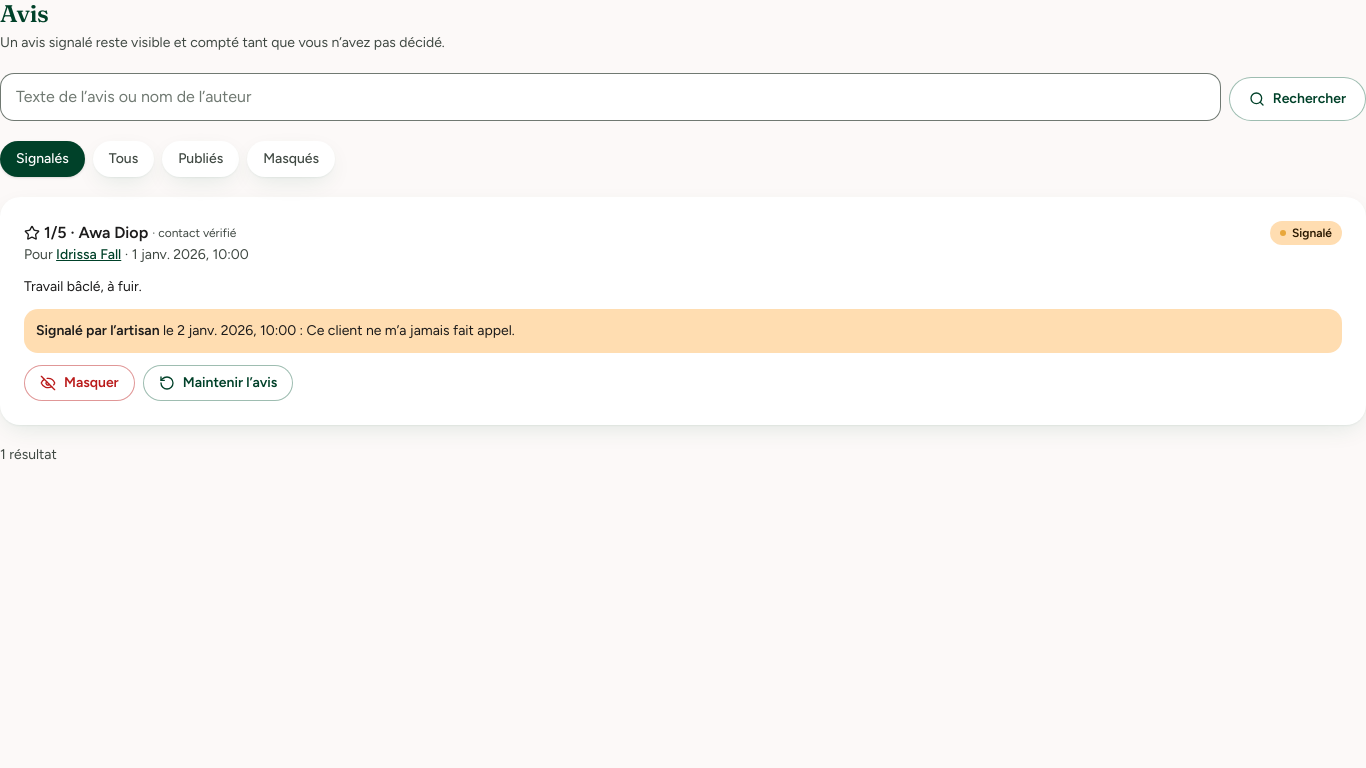
Scenario: AdminReviewsScreen › exige un motif pour masquer, puis affiche le nouveau statut
Click the button "Masquer": (79, 383) x1=24 y1=365 x2=135 y2=401
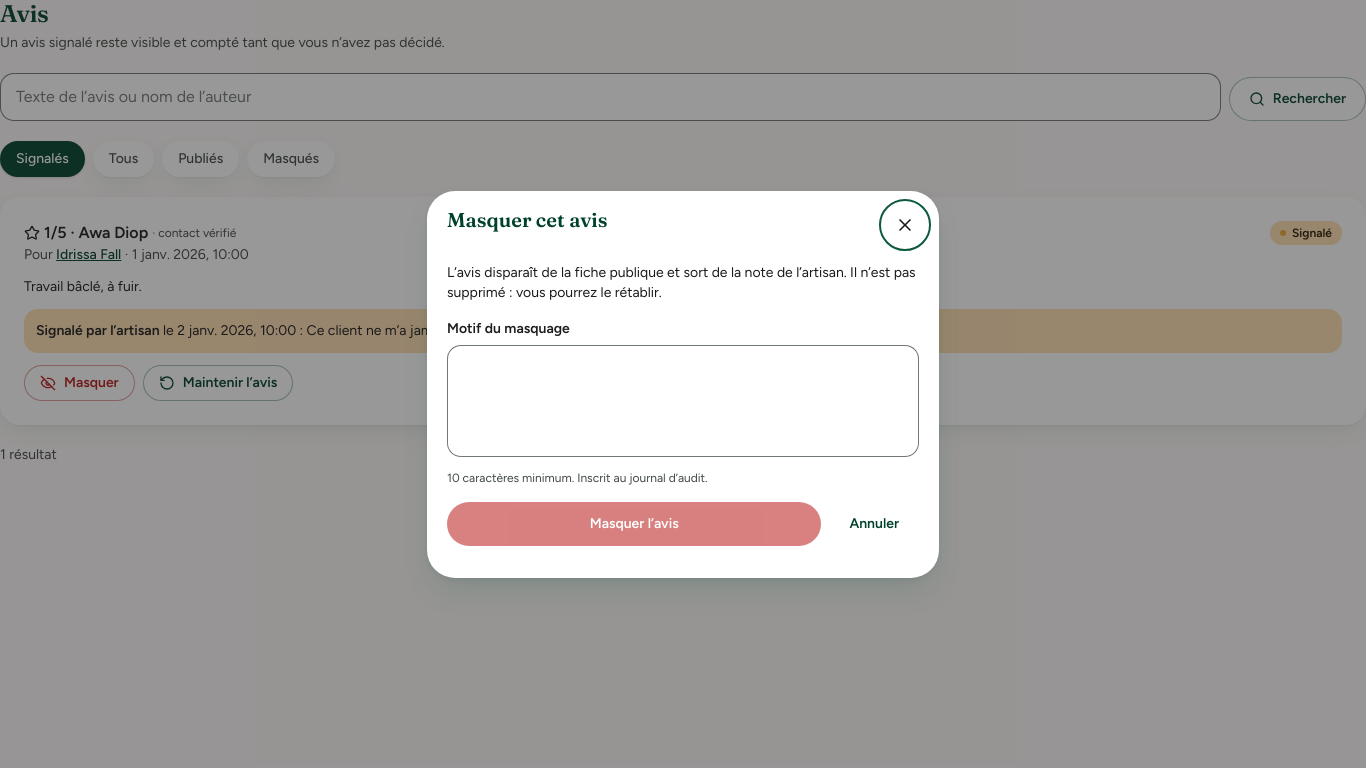
In the text box labelled "Motif du masquage": (683, 400) x1=447 y1=344 x2=919 y2=456, type "Court"
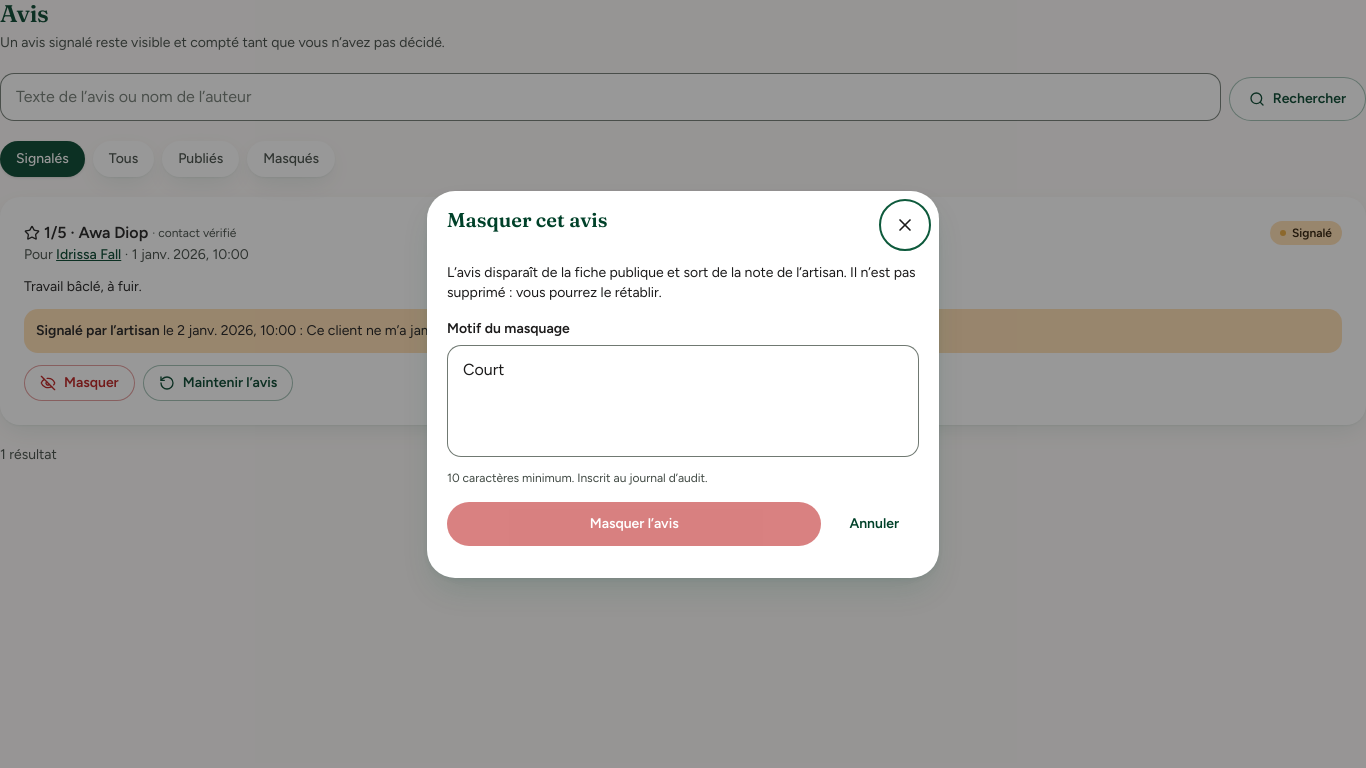
Result: the button "Masquer l’avis" is disabled at x1=447 y1=502 x2=821 y2=546
Replace the text in the text box labelled "Motif du masquage" with "Avis sans rapport avec l’intervention.": (683, 400) x1=447 y1=344 x2=919 y2=456
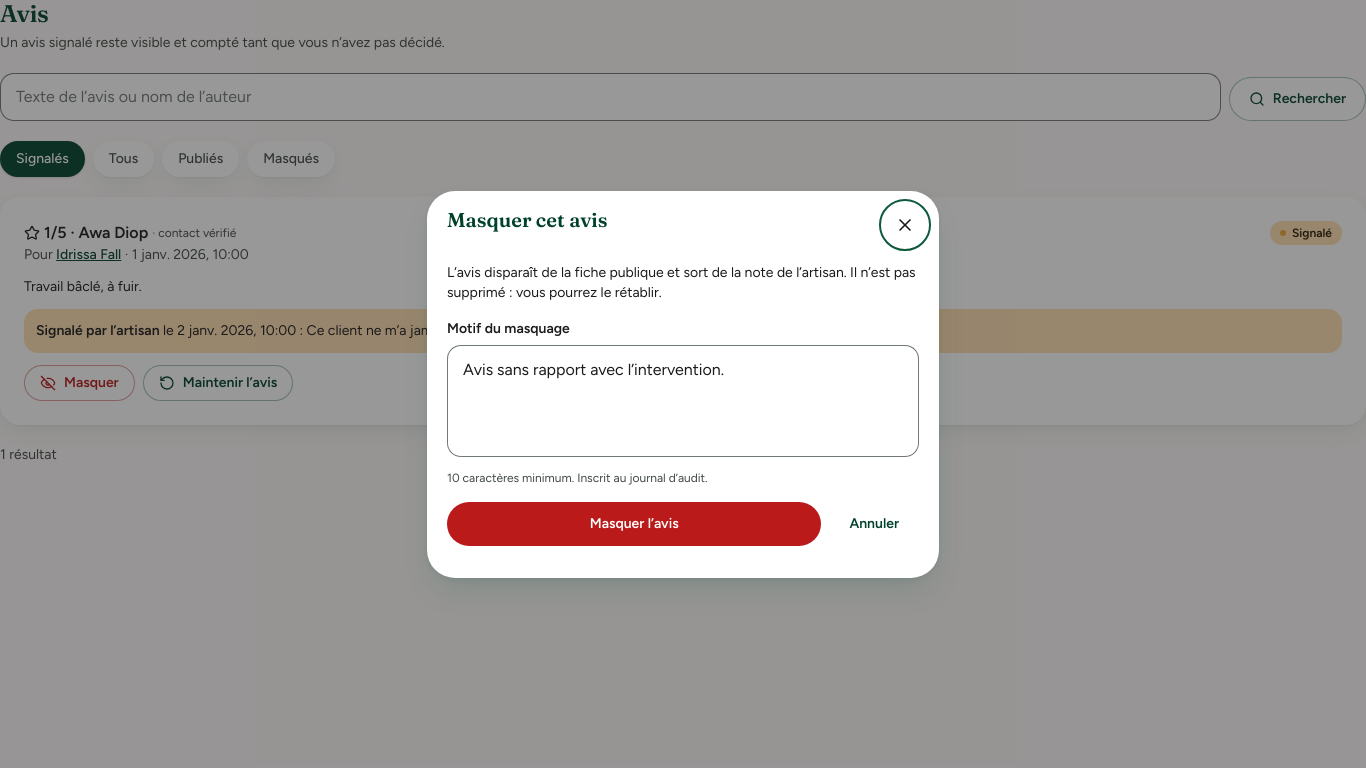
Click the button "Masquer l’avis": (634, 524) x1=447 y1=502 x2=821 y2=546
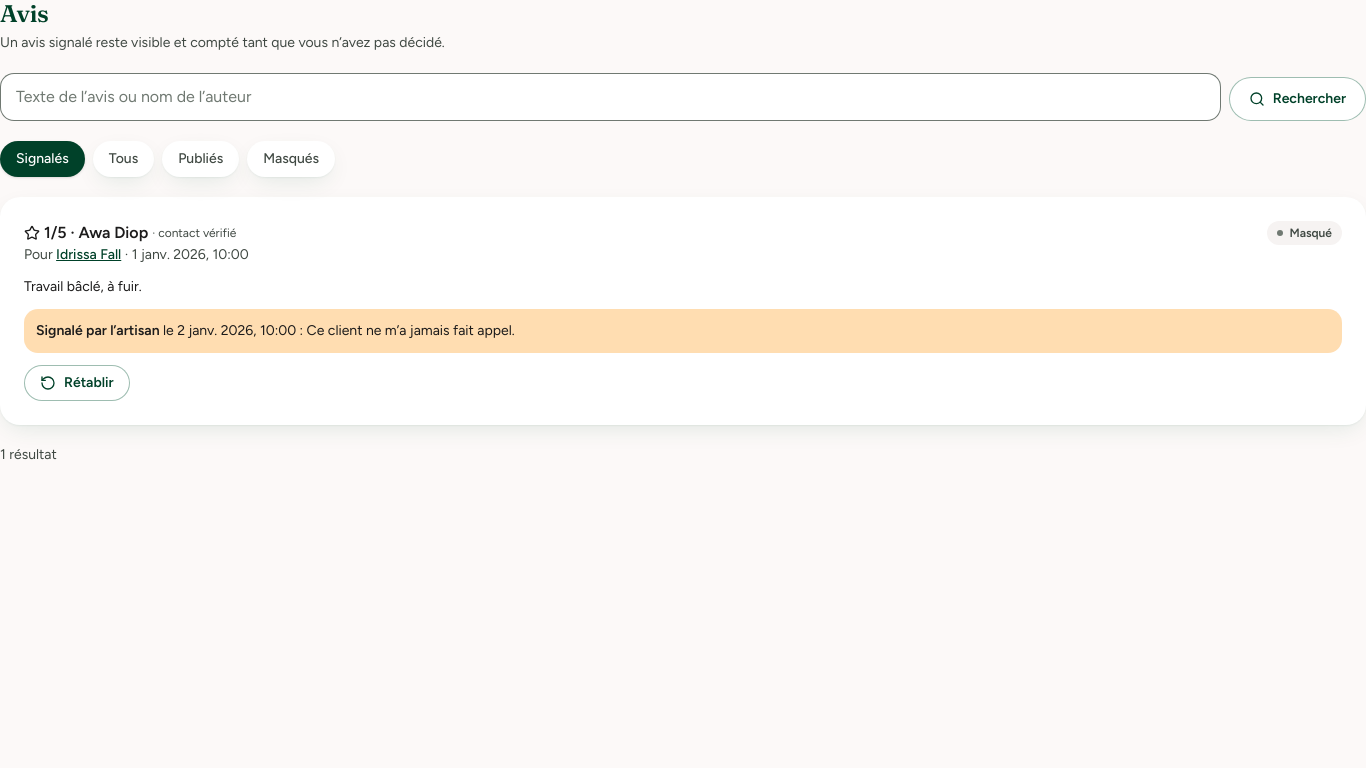
Result: the text "Masqué" is shown at x1=1267 y1=221 x2=1342 y2=245
Result: the button "Rétablir" is shown at x1=24 y1=365 x2=130 y2=401
